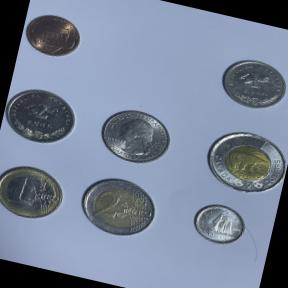1 Euro: (0, 156, 71, 229)
2 Euro: (72, 168, 164, 245)
Canda-10cent-: (185, 196, 252, 252)
Canda-2Dollar-: (195, 121, 288, 202)
Croatia-2Kune-: (0, 80, 85, 153)
US-1cent-: (18, 7, 86, 64)
US-25cent-: (91, 100, 180, 173)
